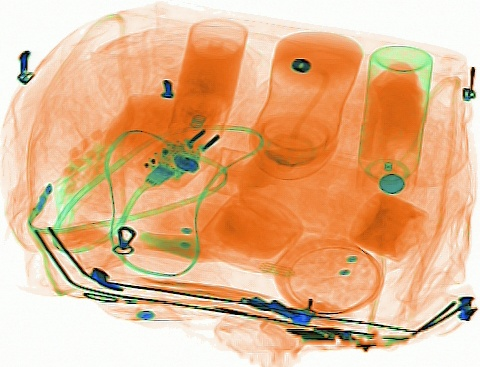pressure: (356, 43, 433, 202)
